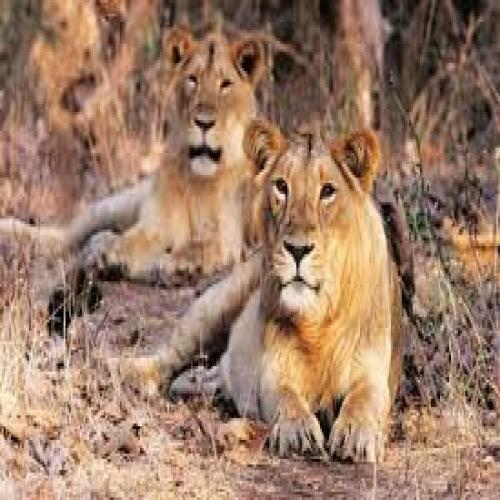lion-endangered: (152, 129, 402, 455), (0, 27, 258, 268)
